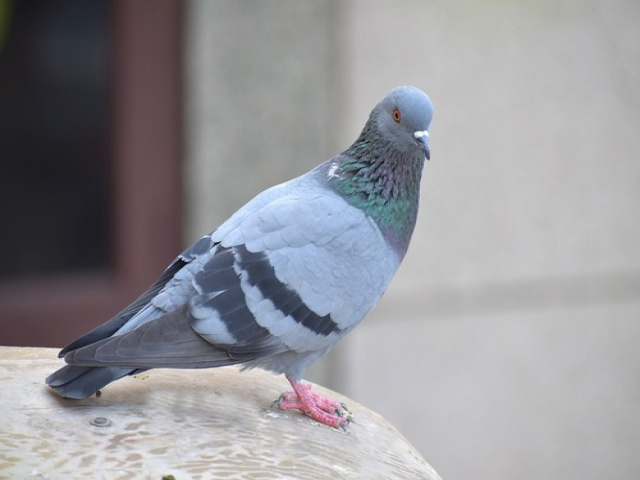Pigeon: (35, 82, 442, 429)
